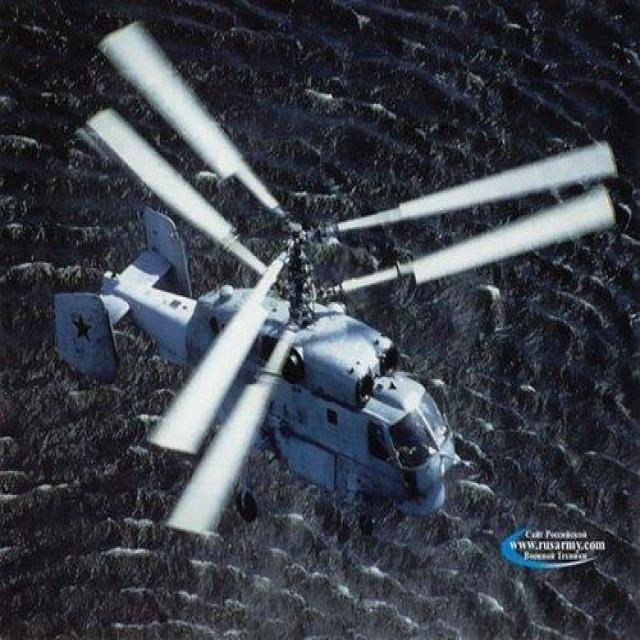MIL_HELO: (47, 21, 640, 547)
